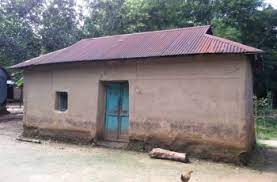Mud House: (13, 26, 261, 164)
